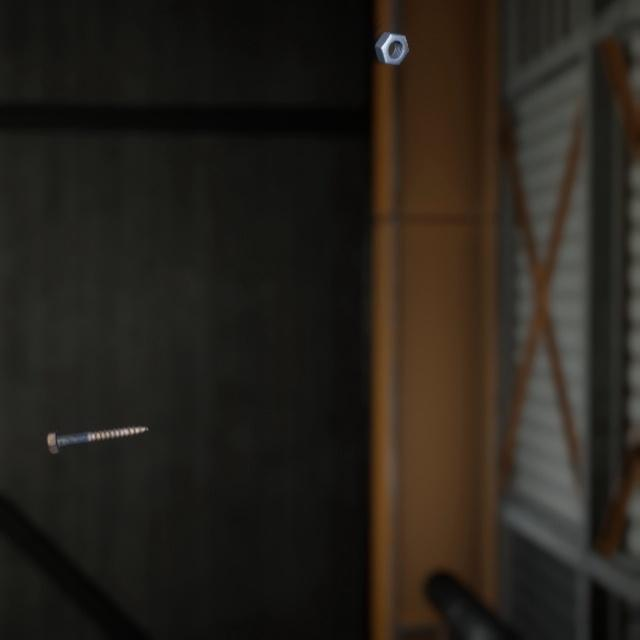bolt: (42, 401, 153, 438)
nut: (370, 19, 413, 61)
